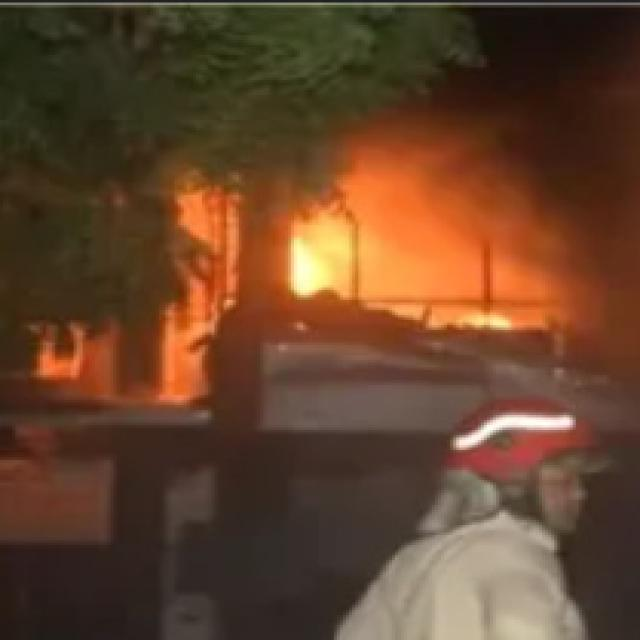fire: (284, 103, 580, 332), (157, 185, 240, 403), (33, 319, 126, 404)
